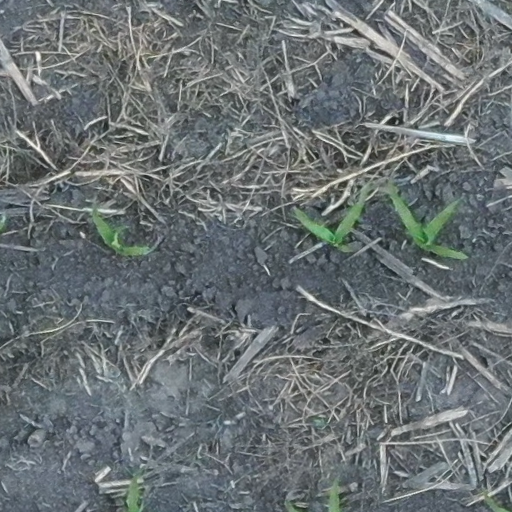planta: (385, 175, 469, 259), (295, 181, 371, 251), (90, 192, 160, 255)
